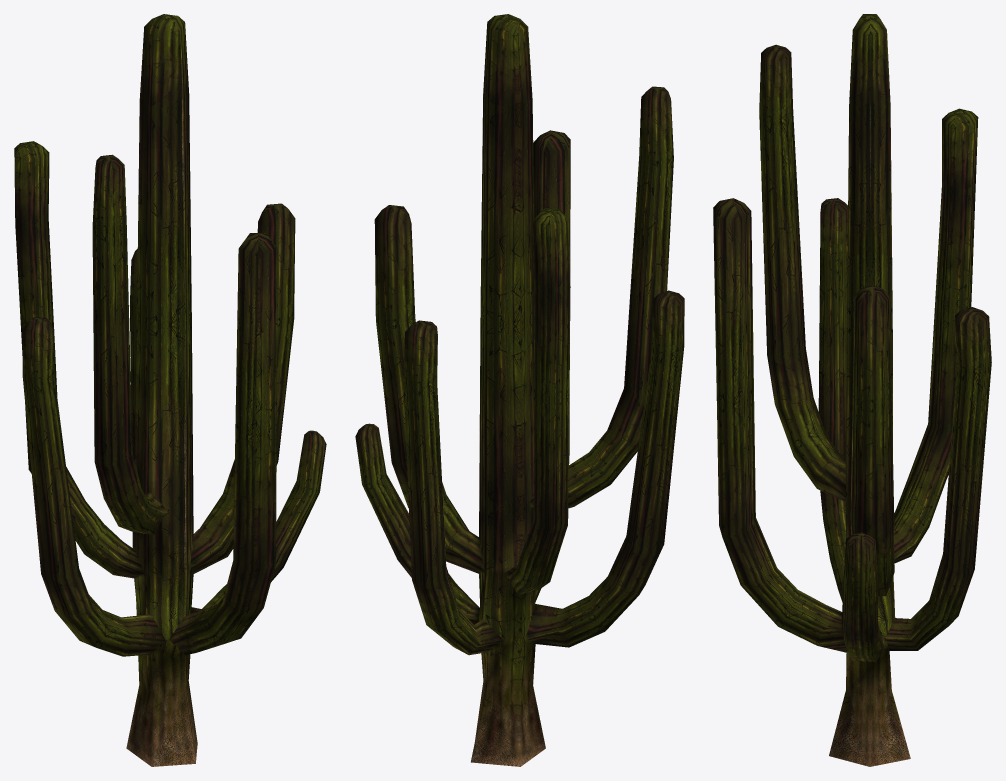
Rendered from cactus_01.glb.
The picture shows the model from 3 angles, left to right: view 1: azimuth 30°, elevation 25°; view 2: azimuth 150°, elevation 25°; view 3: azimuth 270°, elevation 25°; orthographic projection.
Visible parts, largest first — view 1: Cylinder05; view 2: Cylinder05; view 3: Cylinder05.
Boxes of the visible parts, <box> form: Cylinder05: <box>14,14,326,766</box>; Cylinder05: <box>355,14,684,766</box>; Cylinder05: <box>713,14,991,766</box>.
Bounding box in the file's own units: 17.49 × 39.64 × 13.61.
Materials: 1 (1 with a texture image).
